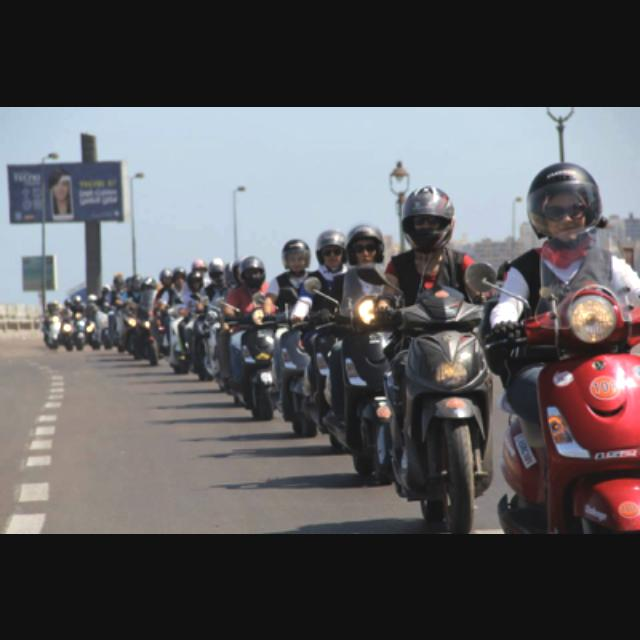With Helmet: (524, 158, 606, 248), (396, 181, 464, 251), (233, 253, 267, 287)
